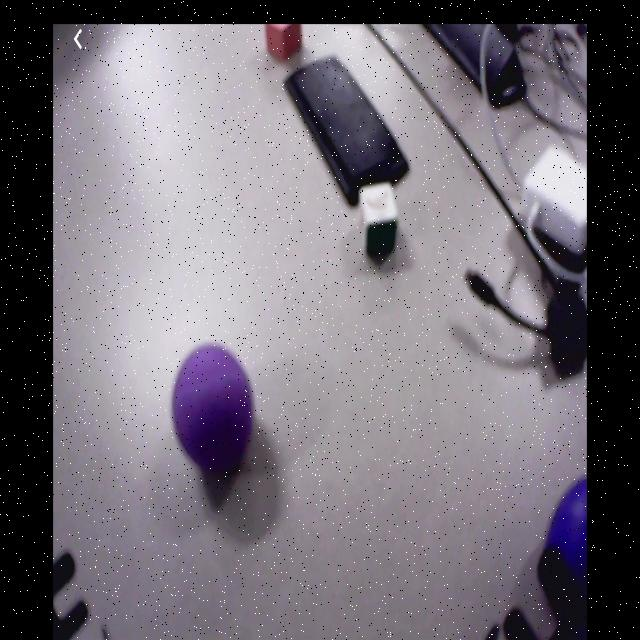ball: (174, 344, 252, 474), (548, 479, 587, 599)
